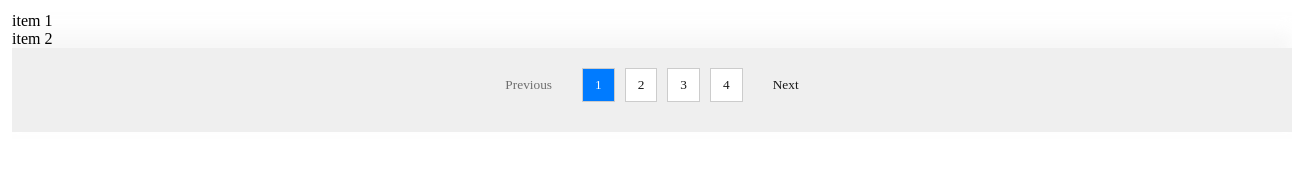
Test case: Pagination › disables previous and next controls at the first and last pages
Expected: the button with aria-label "Previous page" is disabled, 505,77 -> 552,93
Expected: the button with aria-label "Next page" is enabled, 773,77 -> 799,93
Click the button named "Go to page 4" at (726, 85), box 710,68 -> 743,102
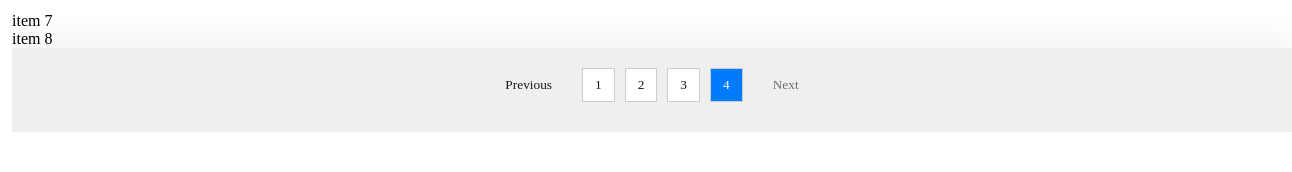
Result: the button with aria-label "Previous page" is enabled at 505,77 -> 552,93
Result: the button with aria-label "Next page" is disabled at 773,77 -> 799,93
